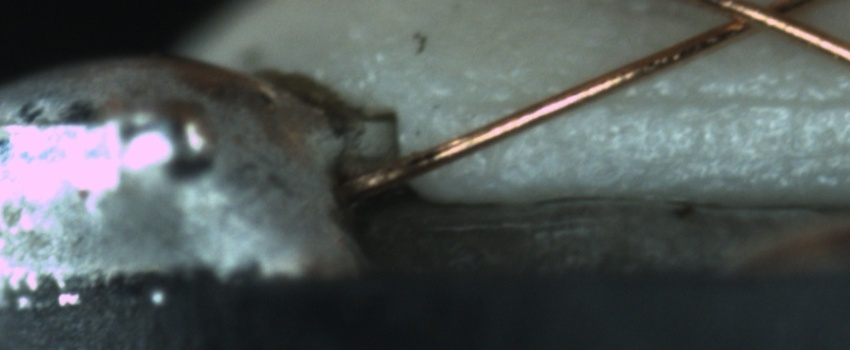CL: (700, 1, 816, 42)
DL: (606, 74, 850, 128)
